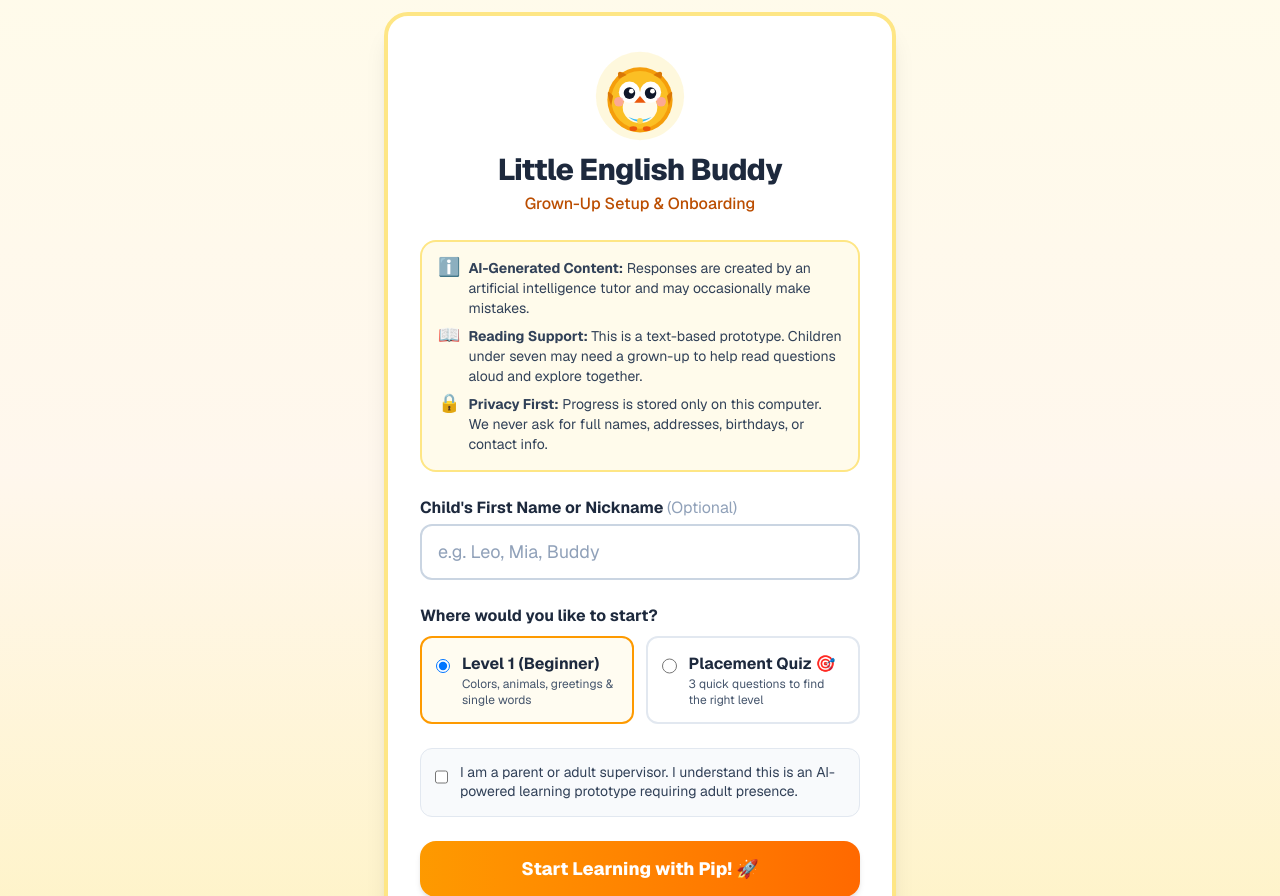
Test case: AdultSetup Component › blocks submission if adult supervision checkbox is unchecked
The width and height of the screenshot is (1280, 896).
Click the button "Start Learning with Pip! 🚀" at point(640, 868), box [420,840,860,895]
(page scrolled)
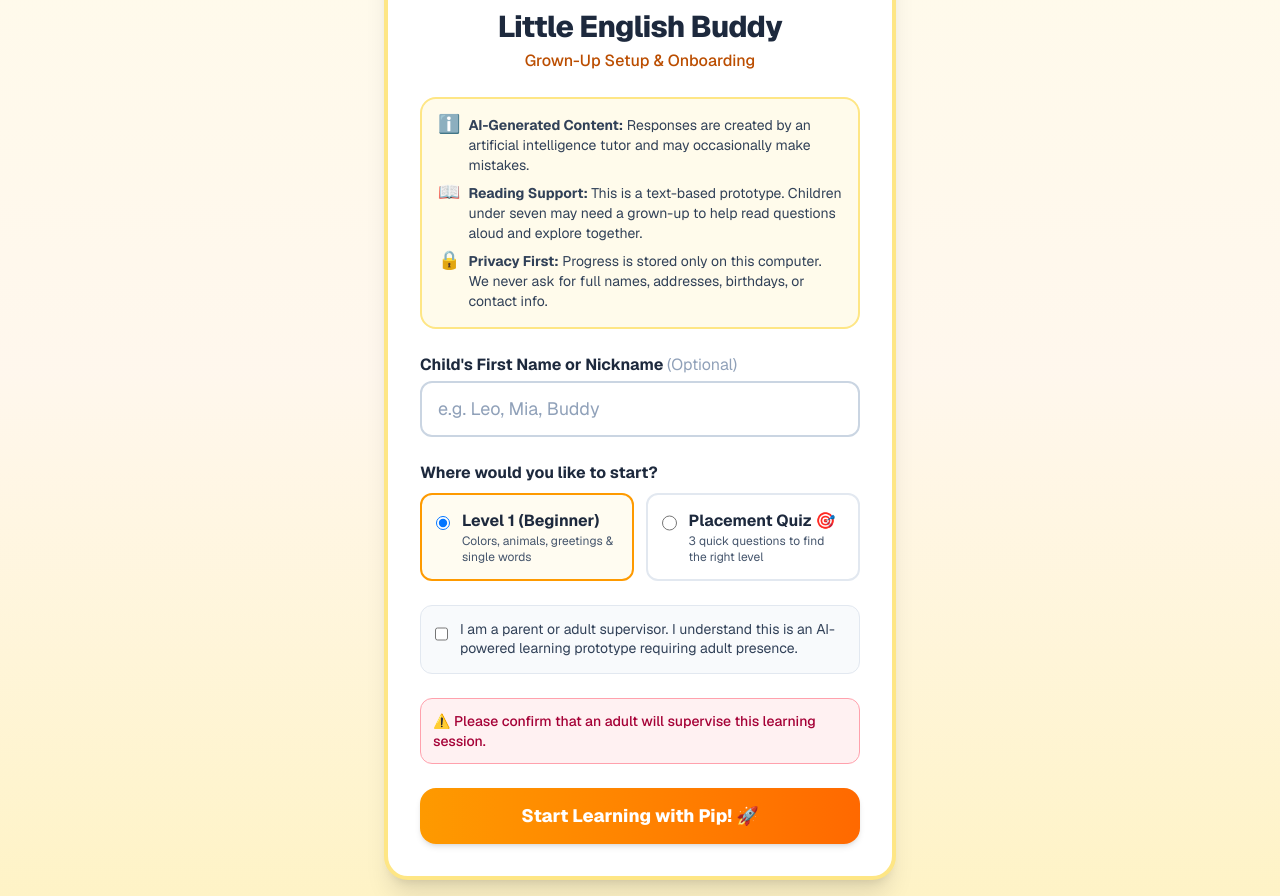
Now the message shows "Please confirm that an adult will supervise this learning session", box [433,712,816,750]
